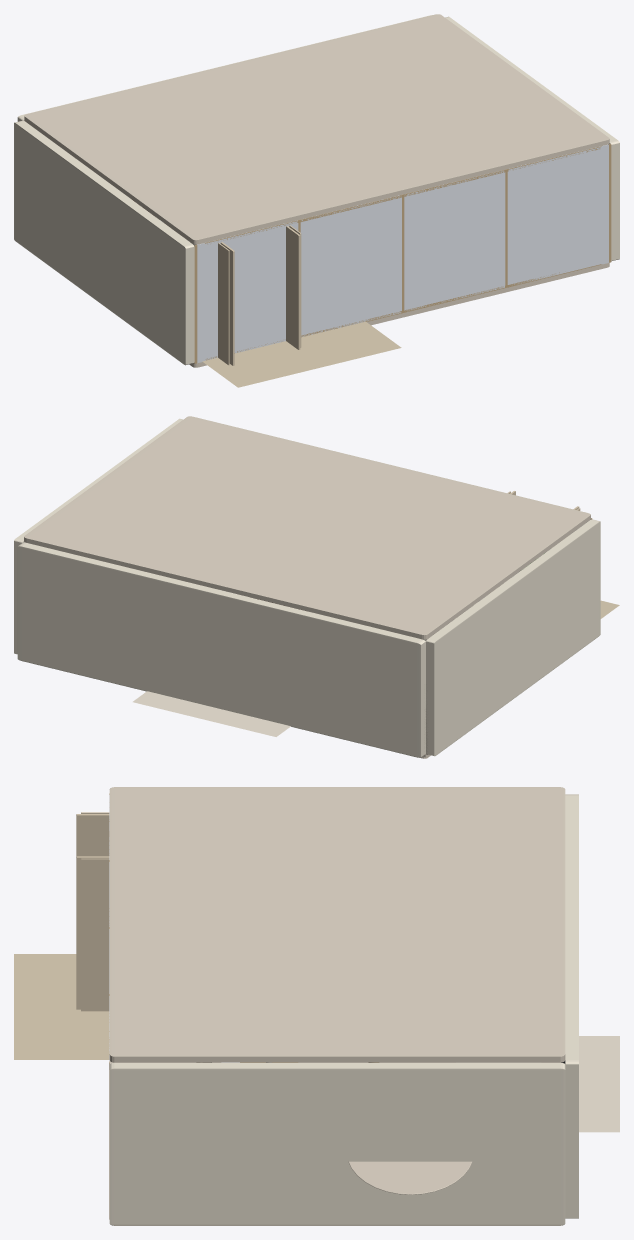
File: Aurelle_Residency_Final.glb
3 renders of one model, top to bottom at view 1: azimuth 30°, elevation 25°; view 2: azimuth 150°, elevation 25°; view 3: azimuth 270°, elevation 25°, orthographic. The views are drawn at different scales.
Parts seen in each view (by area): view 1: ARCH_Ceiling, ARCH_Wall_Left, GLAZ_Panel_03, GLAZ_Panel_02, GLAZ_Panel_01, GLAZ_Panel_00, LIV_Area_Rug, ARCH_Wall_Right, BR_Curtain_Drape_R, BR_Curtain_Sheer_L, ARCH_Floor, GLAZ_Beam_Top (+2 smaller); view 2: ARCH_Ceiling, ARCH_Wall_Rear, ARCH_Wall_Left, FURN_Rug, ARCH_Wall_Right; view 3: ARCH_Ceiling, ARCH_Wall_Right, LIV_Area_Rug, ARCH_Wall_Rear, BR_Curtain_Sheer_R, FURN_Rug, DIN_Table_Top, BR_Curtain_Drape_L, BR_Curtain_Drape_R, ARCH_Floor.
Boxes of the visible parts, x1,y1,x2,y2 form: ARCH_Ceiling: (24,14,609,244); ARCH_Wall_Left: (14,120,194,365); GLAZ_Panel_03: (507,144,608,285); GLAZ_Panel_02: (404,170,505,311); GLAZ_Panel_01: (300,195,401,336); GLAZ_Panel_00: (197,220,298,363); LIV_Area_Rug: (202,321,401,387); ARCH_Wall_Right: (445,16,619,261); BR_Curtain_Drape_R: (286,226,300,349); BR_Curtain_Sheer_L: (218,243,229,365); ARCH_Floor: (189,241,609,367); GLAZ_Beam_Top: (204,146,601,244); ARCH_Ceiling: (24,416,590,639); ARCH_Wall_Rear: (17,542,425,757); ARCH_Wall_Left: (426,519,600,756); FURN_Rug: (133,691,290,736); ARCH_Wall_Right: (14,418,182,654); ARCH_Ceiling: (109,787,565,1062); ARCH_Wall_Right: (109,1063,565,1225); LIV_Area_Rug: (14,954,109,1059); ARCH_Wall_Rear: (565,794,578,1218); BR_Curtain_Sheer_R: (81,858,109,1011); FURN_Rug: (456,1036,619,1132); DIN_Table_Top: (348,1161,471,1194); BR_Curtain_Drape_L: (76,814,109,856); BR_Curtain_Drape_R: (76,856,109,1009); ARCH_Floor: (110,1061,562,1225).
Size of the model in its own units: 16.3 by 4.1 by 13.3.
Materials: 39 (39 with a texture image).
